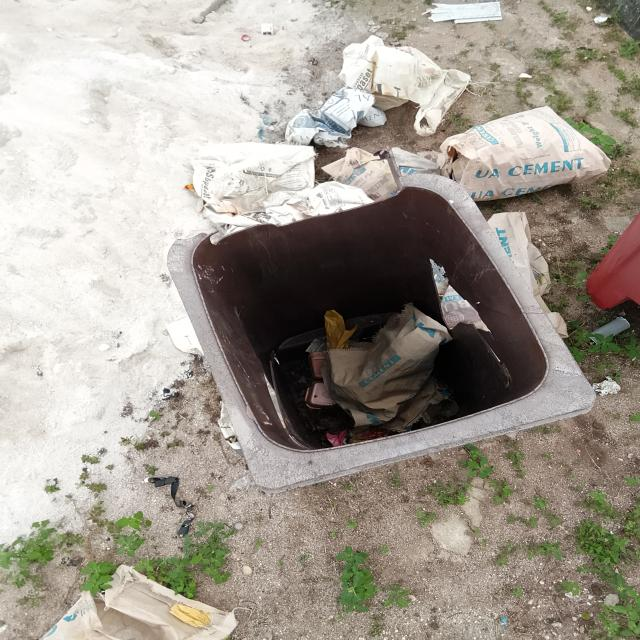half-full: (152, 183, 586, 470)
